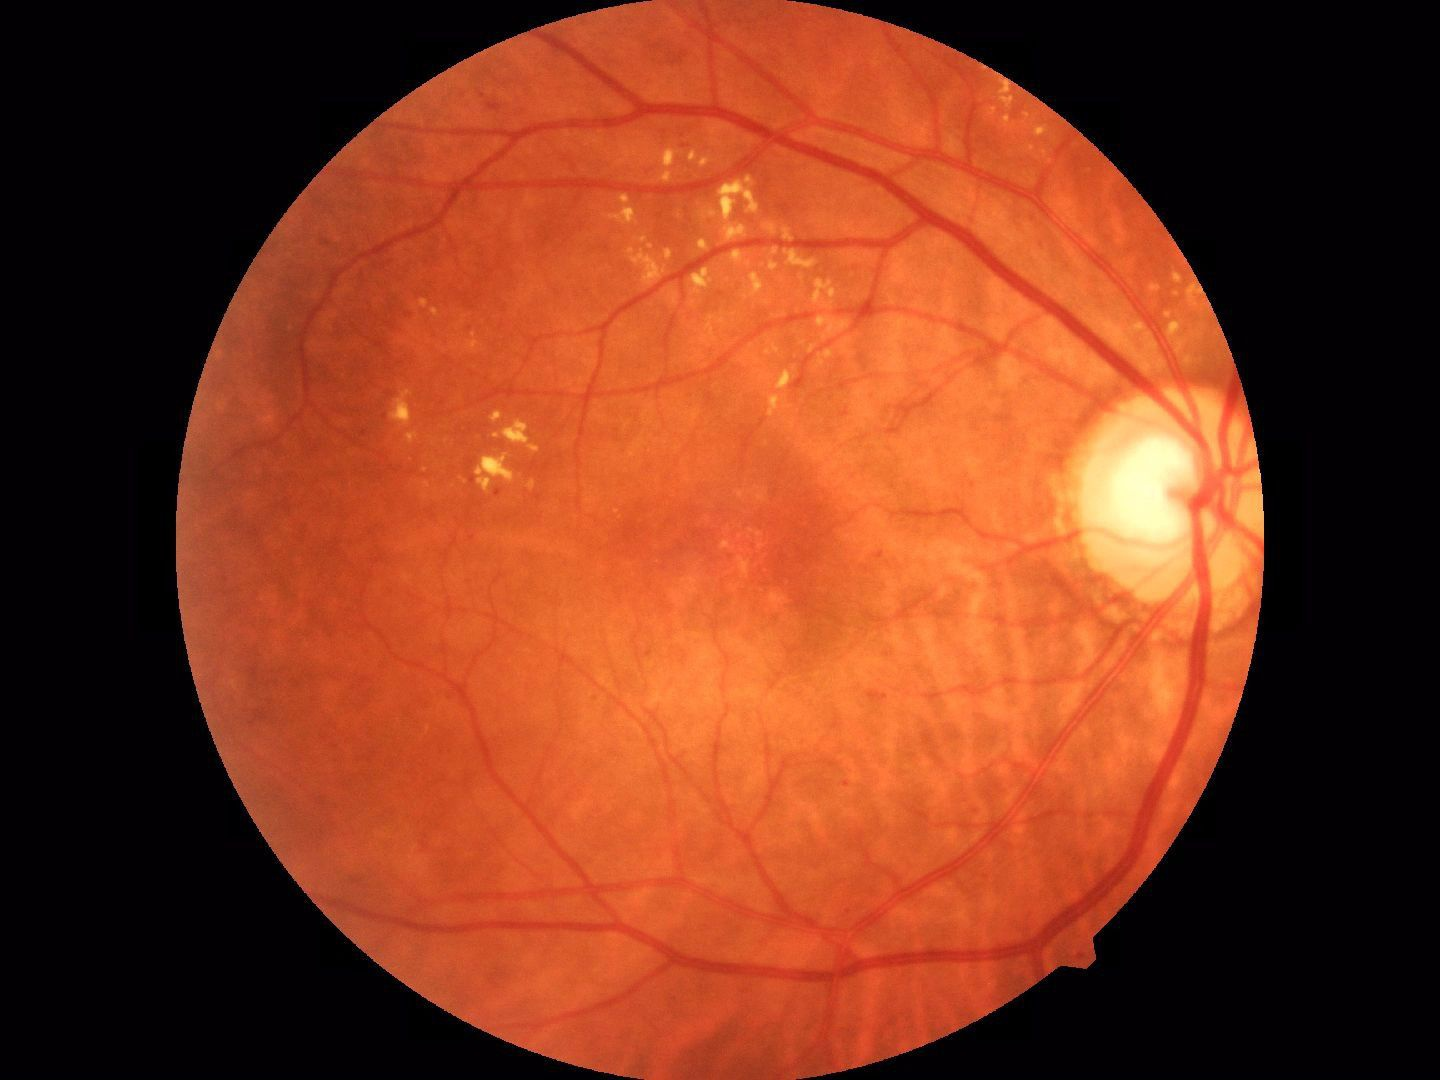Arterioles: (466, 722, 841, 894)
Exudates: (628, 157, 804, 293), (454, 412, 551, 495), (371, 393, 418, 439)
Hemorrhages: (674, 458, 864, 656)
Optic-Disc: (1064, 363, 1257, 606)
Venules: (927, 219, 1079, 329), (1154, 658, 1204, 812)
